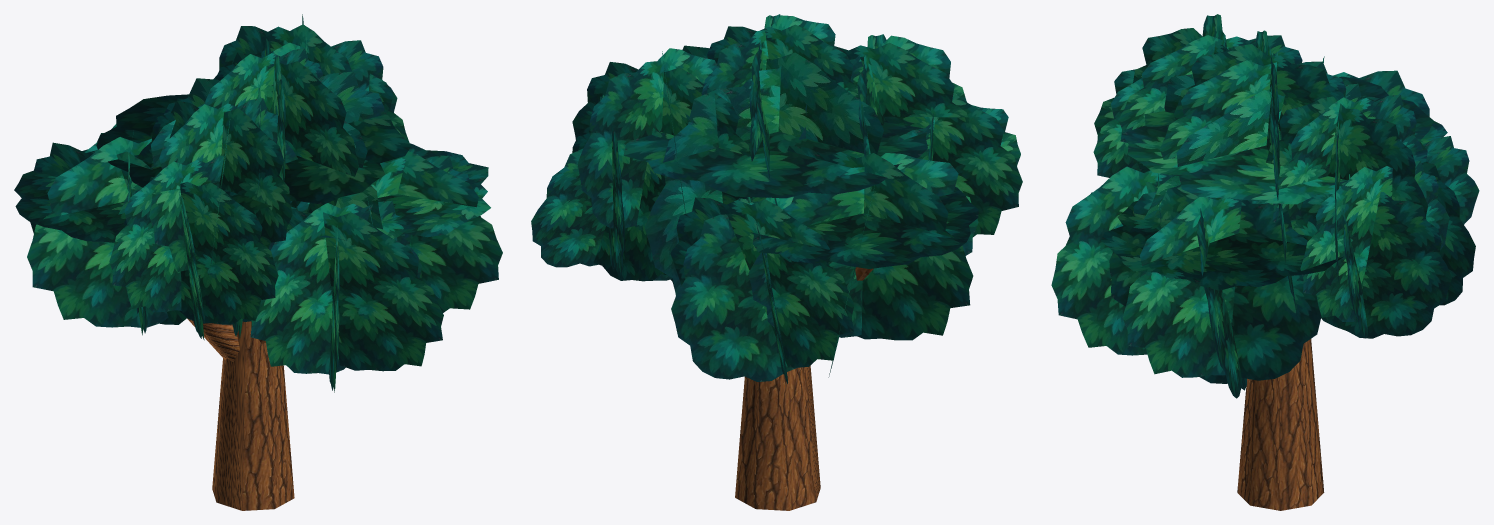
File: ptree_dark_round.glb
The picture shows the model from 3 angles, left to right: view 1: azimuth 30°, elevation 25°; view 2: azimuth 150°, elevation 25°; view 3: azimuth 270°, elevation 25°; orthographic projection. The views are drawn at different scales.
Visible parts, largest first — view 1: leaf, woodBark; view 2: leaf, woodBark; view 3: leaf, woodBark.
Boxes of the visible parts, x1,y1,x2,y2 form: leaf: (14,14,502,392); woodBark: (187,318,294,510); leaf: (531,14,1022,383); woodBark: (735,267,873,510); leaf: (1051,14,1479,398); woodBark: (1237,339,1324,510).
Size of the model in its own units: 1.12 by 1.16 by 0.985.
Materials: 2 (2 with a texture image).
